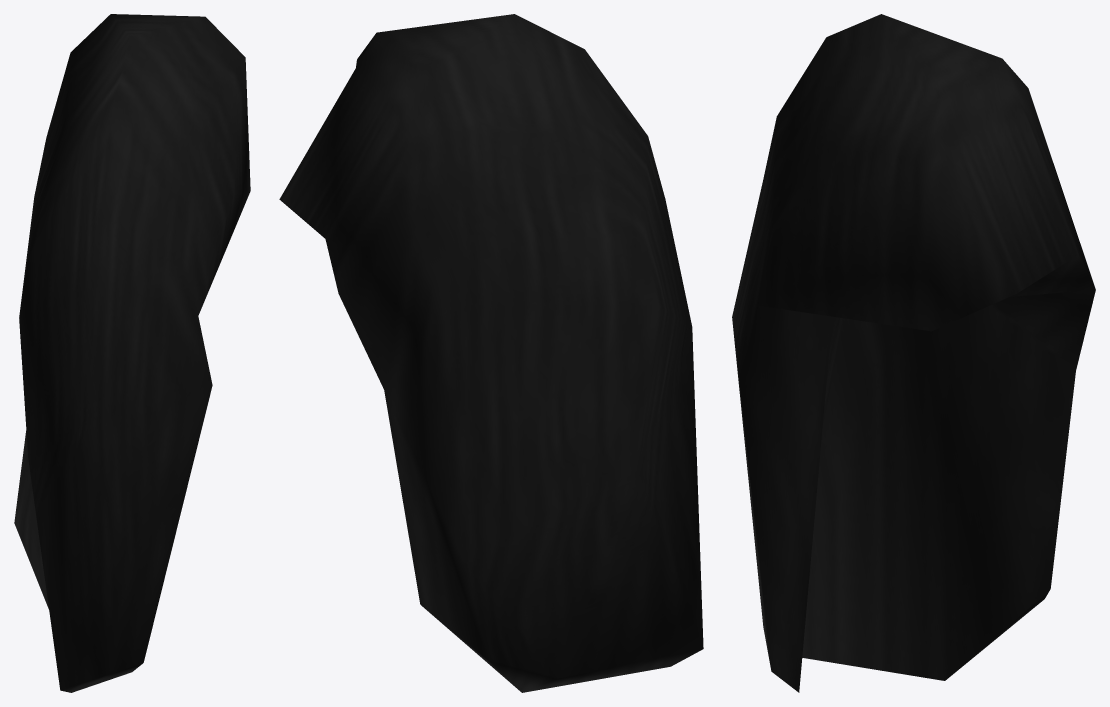
The model's file is hair hivers.glb.
The picture shows the model from 3 angles, left to right: view 1: azimuth 30°, elevation 25°; view 2: azimuth 150°, elevation 25°; view 3: azimuth 270°, elevation 25°; orthographic projection. The views are drawn at different scales.
Parts seen in each view (by area): view 1: Bass Drop; view 2: Bass Drop; view 3: Bass Drop.
Boxes of the visible parts, x1=… form: Bass Drop: x1=14, y1=14, x2=250, y2=692; Bass Drop: x1=279, y1=14, x2=703, y2=692; Bass Drop: x1=732, y1=14, x2=1095, y2=692.
Size of the model in its own units: 0.1344 by 0.2779 by 0.1313.
1 material, 1 textured.
